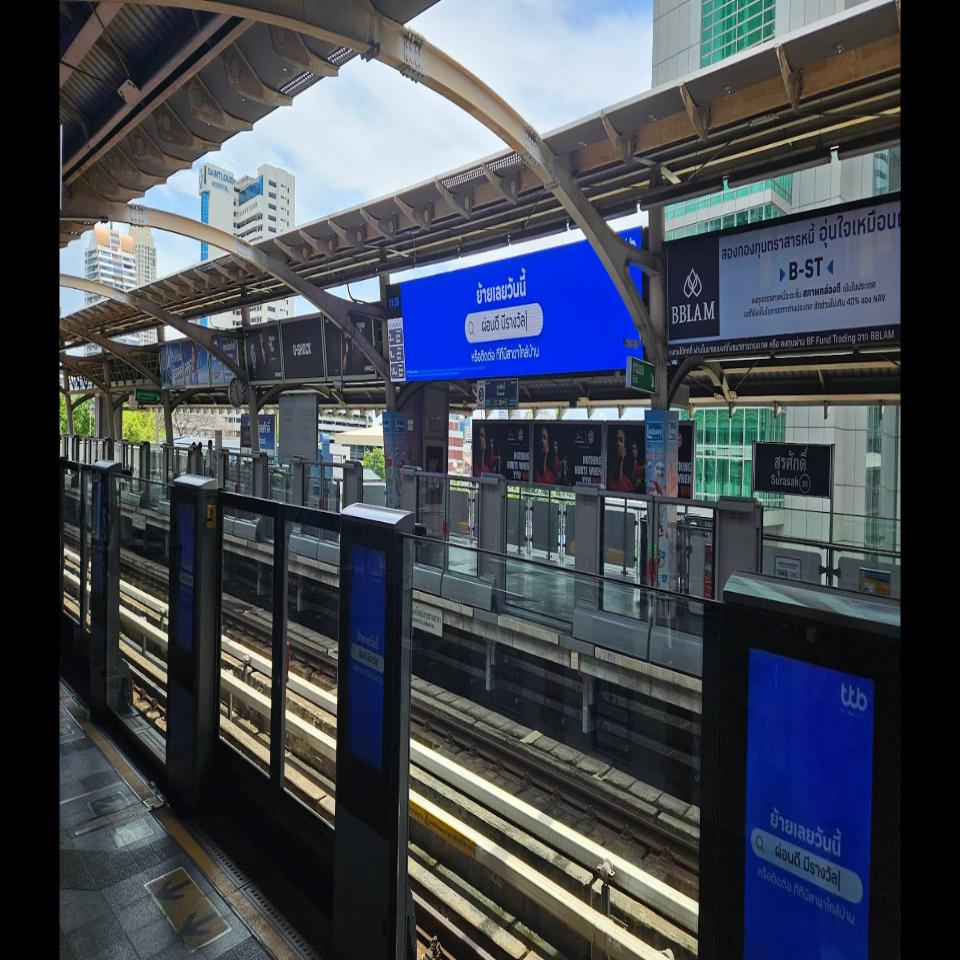signage: (754, 441, 831, 499), (494, 378, 508, 410)
